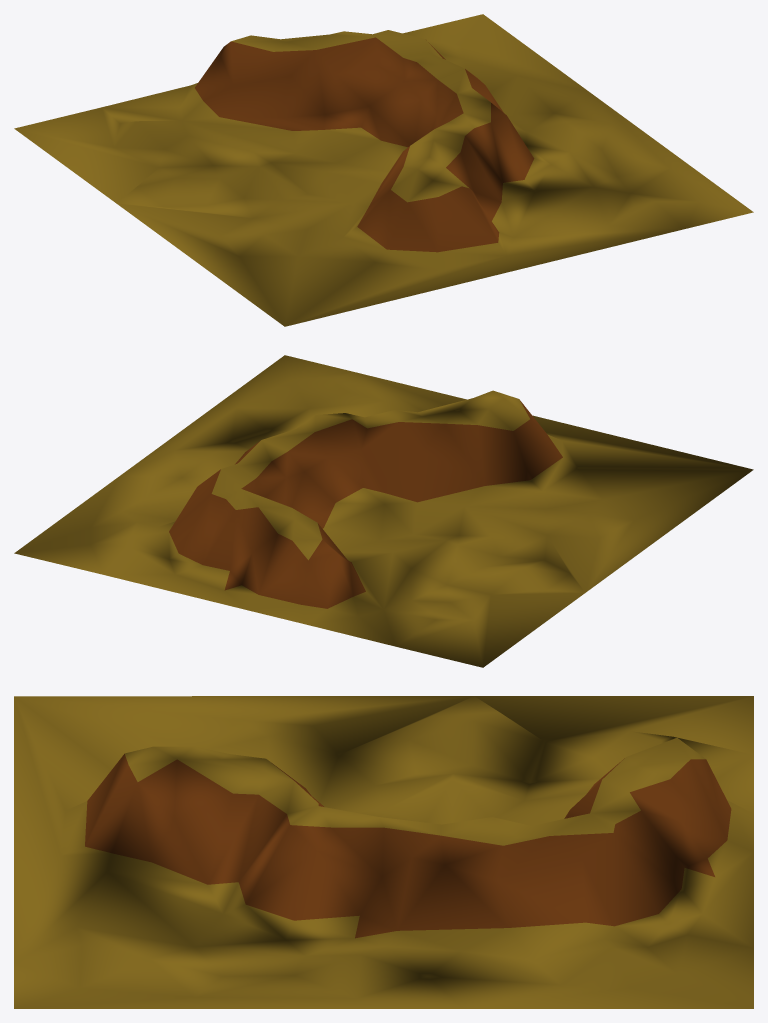
File: Terrain_1.obj
3 views of the same model, one above another, from view 1: azimuth 30°, elevation 25°; view 2: azimuth 150°, elevation 25°; view 3: azimuth 270°, elevation 25° (orthographic). The views are drawn at different scales.
Visible parts, largest first — view 1: Terrain_1; view 2: Terrain_1; view 3: Terrain_1.
Part boxes in pixels (x1,y1,x2,y2): Terrain_1: [14, 14, 753, 326]; Terrain_1: [14, 355, 753, 667]; Terrain_1: [14, 696, 753, 1008].
Bounding box in the file's own units: 2000 × 277 × 2000.
